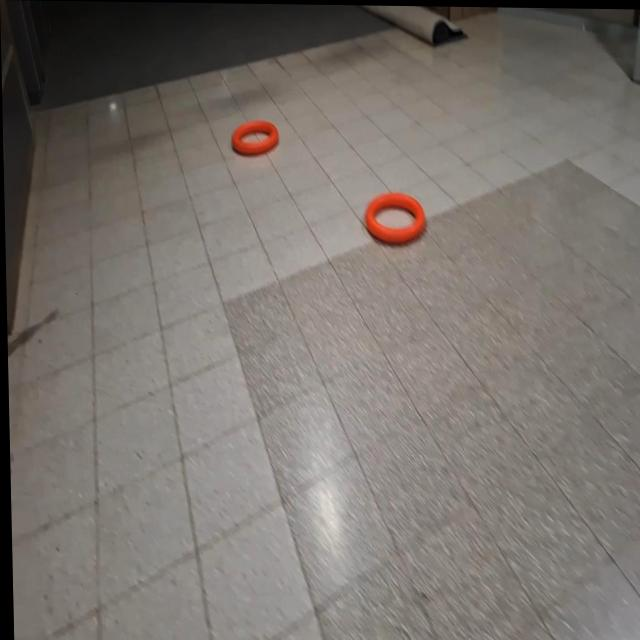note: (363, 191, 426, 243), (231, 118, 279, 156)
